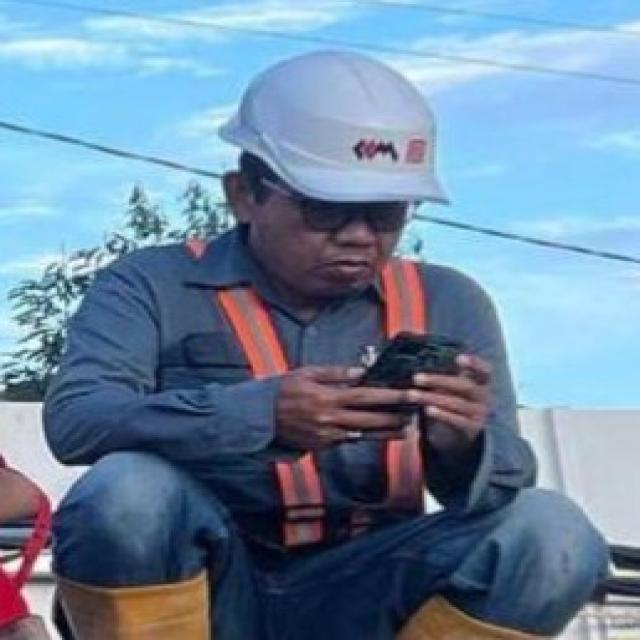safetyhelmet: (215, 47, 463, 298)
